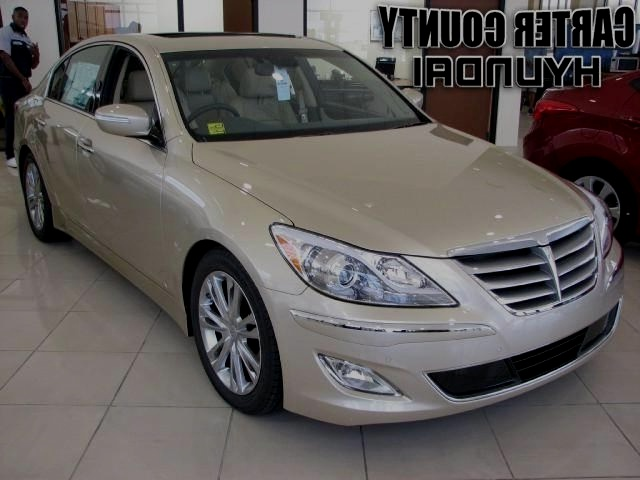car: (1, 26, 621, 445)
